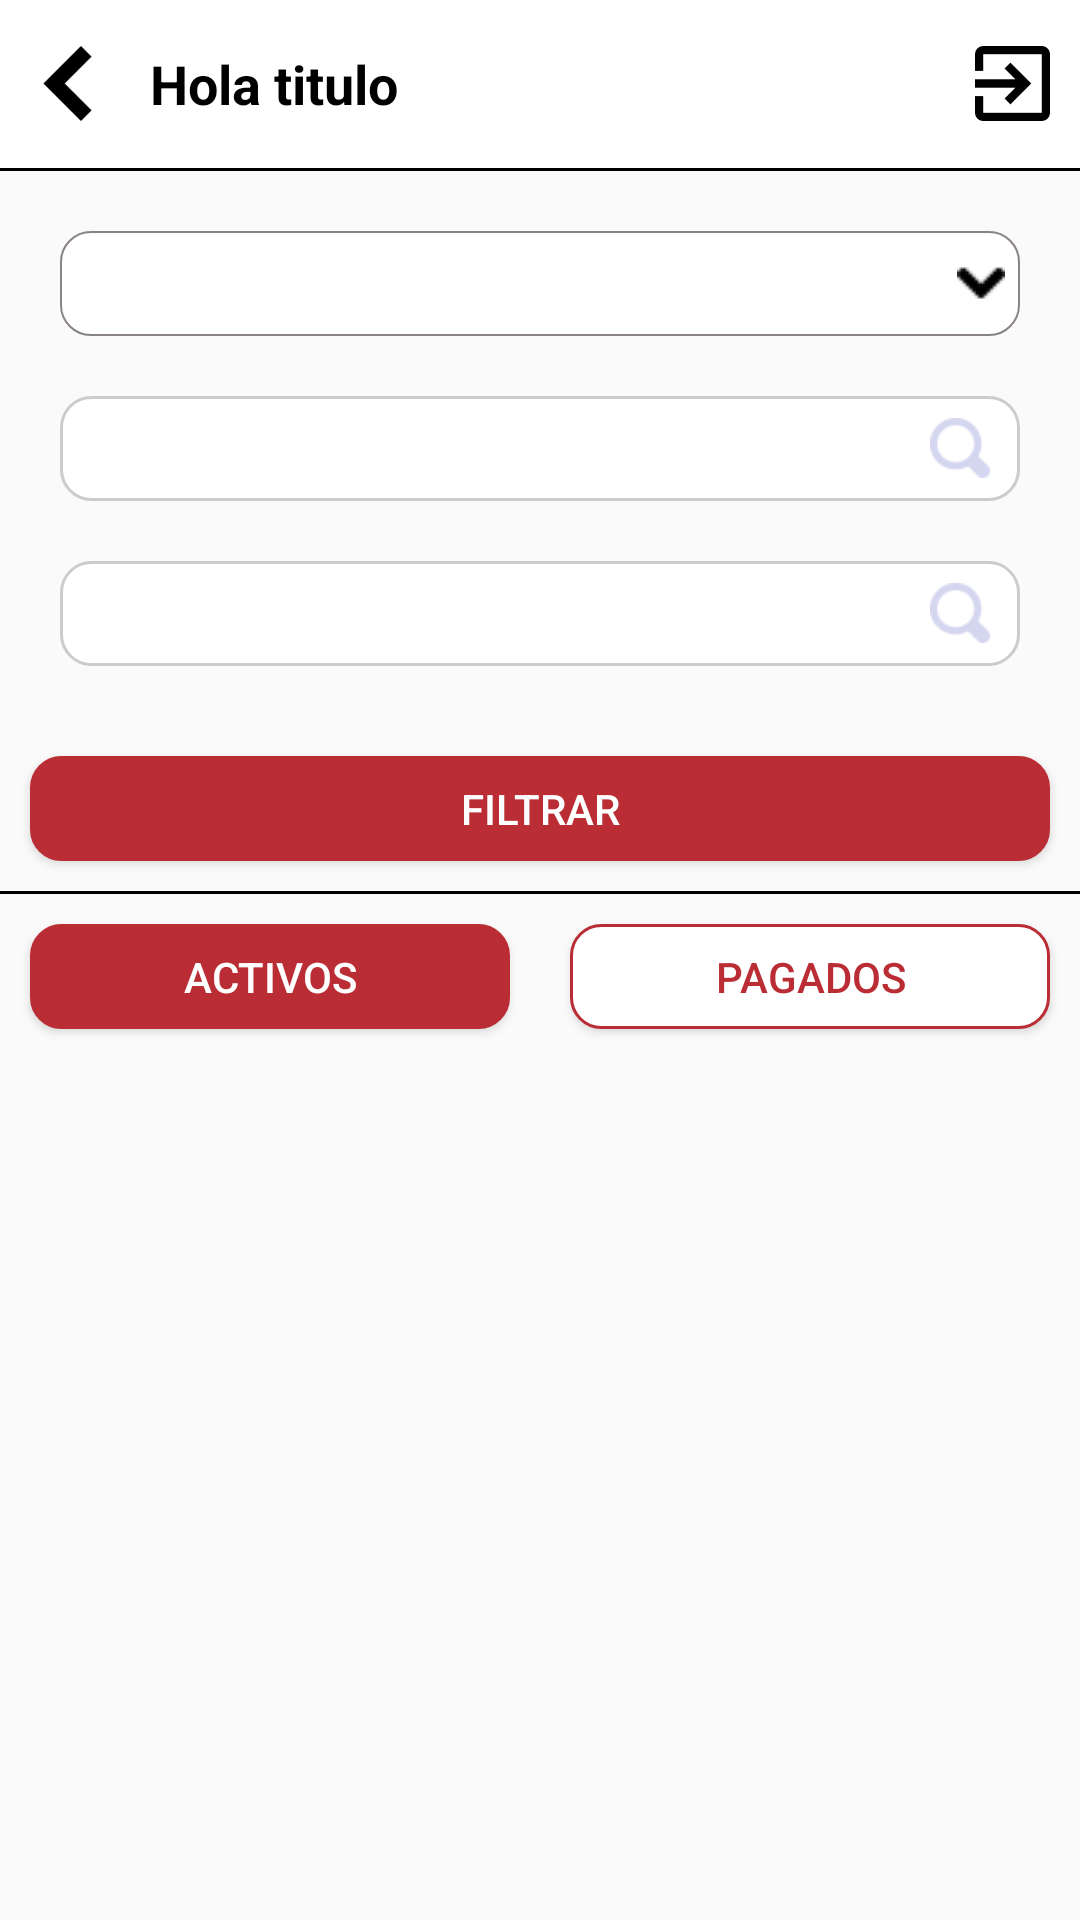

Icon bounding boxes for this 1080px x 1920px phone screenshot, format (x1, y1, x2, y2):
back: (43, 46, 92, 121)
exit: (975, 46, 1050, 121)
